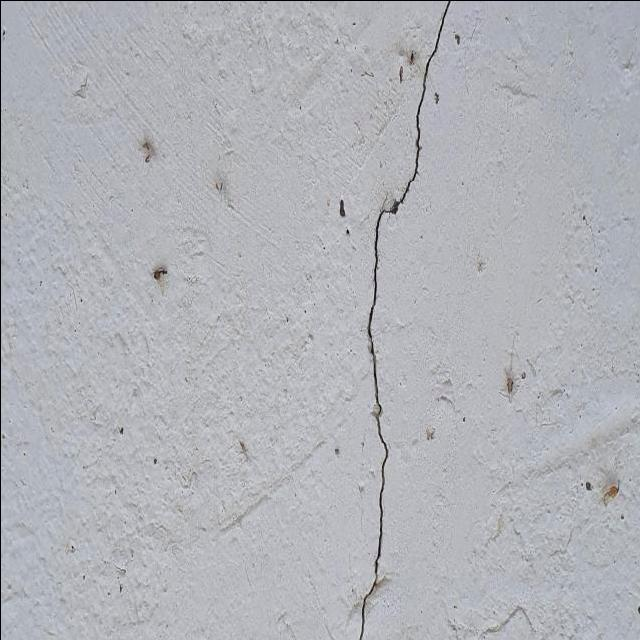SurfaceCrack: (315, 0, 469, 639)
